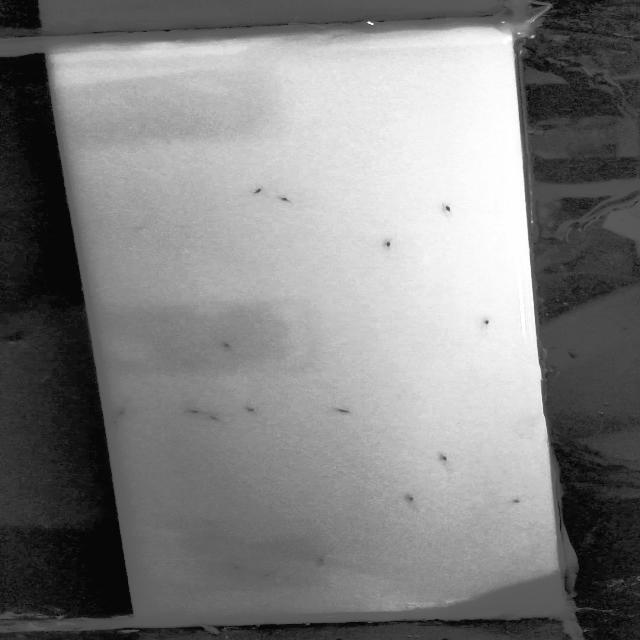shrimp: (194, 332, 253, 353), (361, 231, 408, 253), (432, 198, 467, 222), (253, 567, 293, 586), (203, 412, 241, 430), (217, 556, 250, 575), (315, 403, 358, 417), (427, 451, 467, 466), (398, 488, 427, 507), (237, 406, 276, 420), (273, 190, 301, 208), (234, 183, 270, 196), (503, 489, 527, 508), (107, 418, 140, 431), (472, 314, 502, 328), (309, 553, 328, 569), (175, 407, 206, 416), (106, 408, 138, 416)
